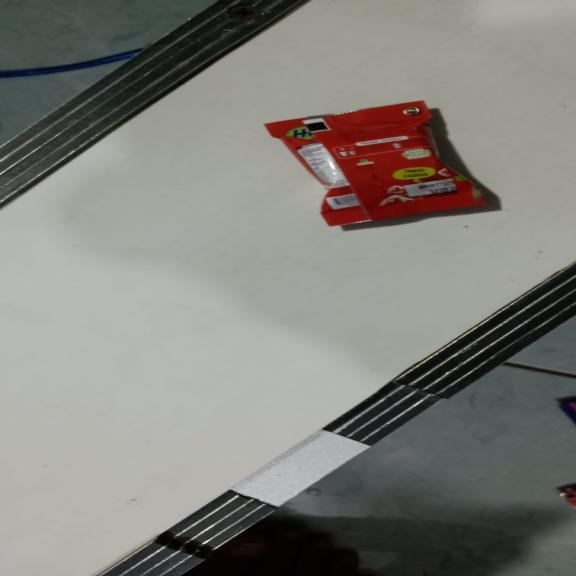Plastik: (262, 101, 490, 227)
